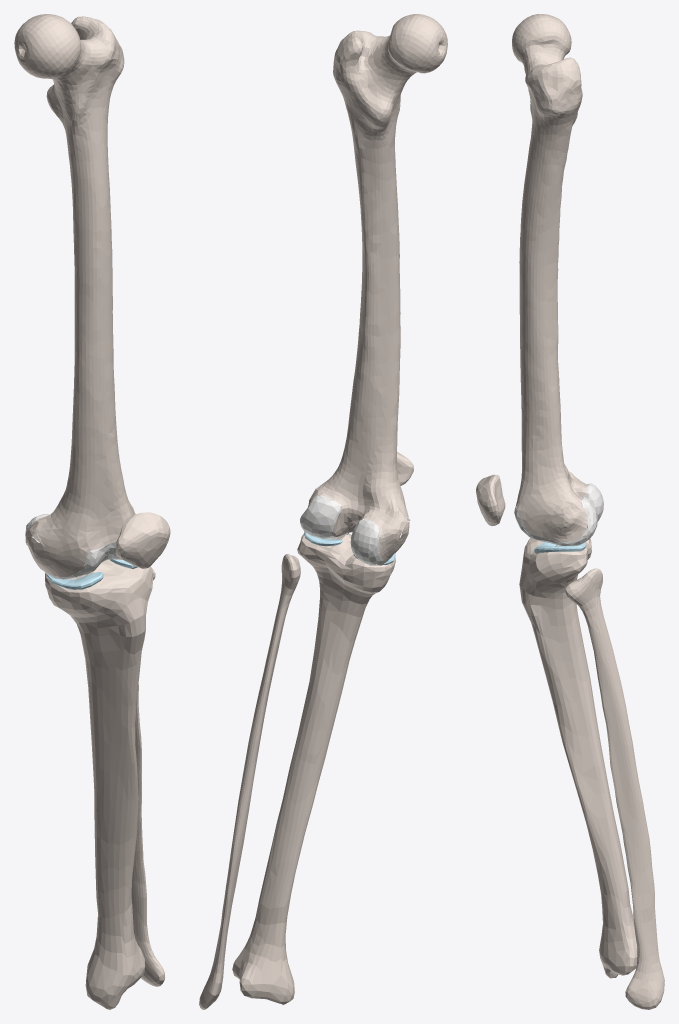
Rendered from VH_M_Knee_L_0.4.glb.
The picture shows the model from 3 angles, left to right: view 1: azimuth 30°, elevation 25°; view 2: azimuth 150°, elevation 25°; view 3: azimuth 270°, elevation 25°; orthographic projection. The views are drawn at different scales.
Parts seen in each view (by area): view 1: VH_M_femur_L, VH_M_tibia_L, VH_M_fibula_L, VH_M_patella_L, VH_M_meniscus_L, VH_M_medial_condyle_of_left_femur_sup; view 2: VH_M_femur_L, VH_M_tibia_L, VH_M_fibula_L, VH_M_lateral_condyle_of_femur_inf_L, VH_M_medial_condyle_of_left_femur_inf; view 3: VH_M_femur_L, VH_M_tibia_L, VH_M_fibula_L, VH_M_patella_L, VH_M_articular_cartilage_of_knee_L.
Boxes of the visible parts, <box> form: VH_M_femur_L: <box>14,14,135,576</box>; VH_M_tibia_L: <box>45,553,153,1009</box>; VH_M_fibula_L: <box>131,568,165,986</box>; VH_M_patella_L: <box>115,512,170,568</box>; VH_M_meniscus_L: <box>47,545,137,589</box>; VH_M_medial_condyle_of_left_femur_sup: <box>77,547,110,576</box>; VH_M_femur_L: <box>308,14,447,560</box>; VH_M_tibia_L: <box>232,533,395,1004</box>; VH_M_fibula_L: <box>199,554,300,1009</box>; VH_M_lateral_condyle_of_femur_inf_L: <box>300,496,340,536</box>; VH_M_medial_condyle_of_left_femur_inf: <box>350,520,380,564</box>; VH_M_femur_L: <box>512,14,587,541</box>; VH_M_tibia_L: <box>519,534,637,978</box>; VH_M_fibula_L: <box>565,568,664,1009</box>; VH_M_patella_L: <box>476,474,505,525</box>; VH_M_articular_cartilage_of_knee_L: <box>514,483,590,545</box>.
Size of the model in its own units: 0.1735 by 0.8875 by 0.1646.
